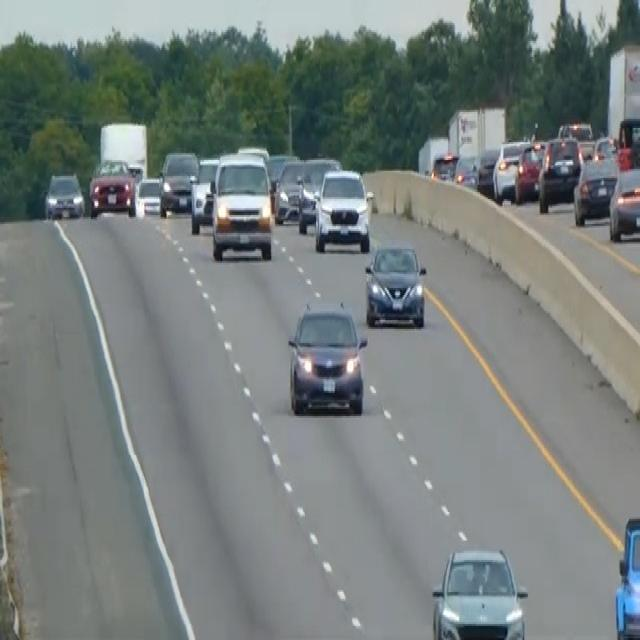car: (430, 544, 528, 638), (364, 240, 427, 329), (313, 165, 373, 252), (537, 134, 583, 212), (297, 156, 341, 233), (573, 153, 619, 226), (88, 156, 136, 217), (158, 148, 198, 215), (492, 137, 531, 203), (608, 164, 639, 242), (189, 155, 219, 233), (273, 158, 305, 222), (514, 138, 546, 202), (43, 170, 84, 218), (557, 119, 595, 160), (616, 114, 639, 169), (135, 174, 162, 217), (476, 146, 499, 196), (453, 151, 479, 189), (430, 150, 458, 182), (236, 142, 270, 164)
jeep: (613, 514, 639, 638)
lorry: (98, 117, 148, 183)
minivan: (285, 295, 369, 418), (208, 149, 275, 263)
